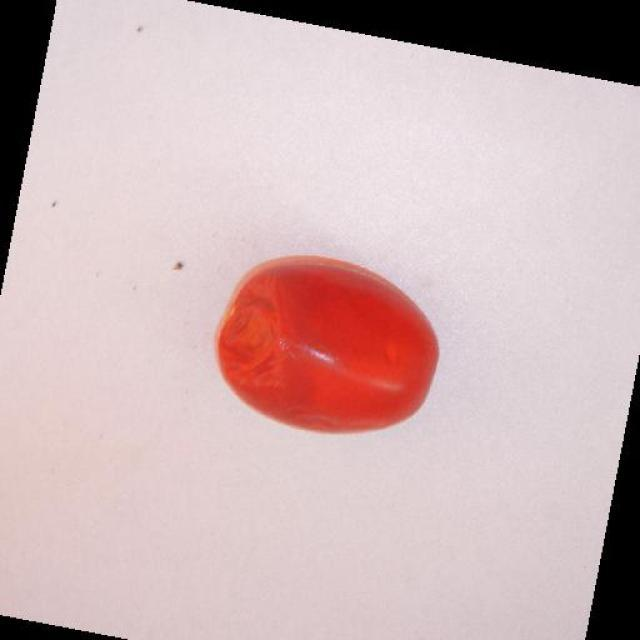Rotten Tomato: (204, 236, 446, 446)
